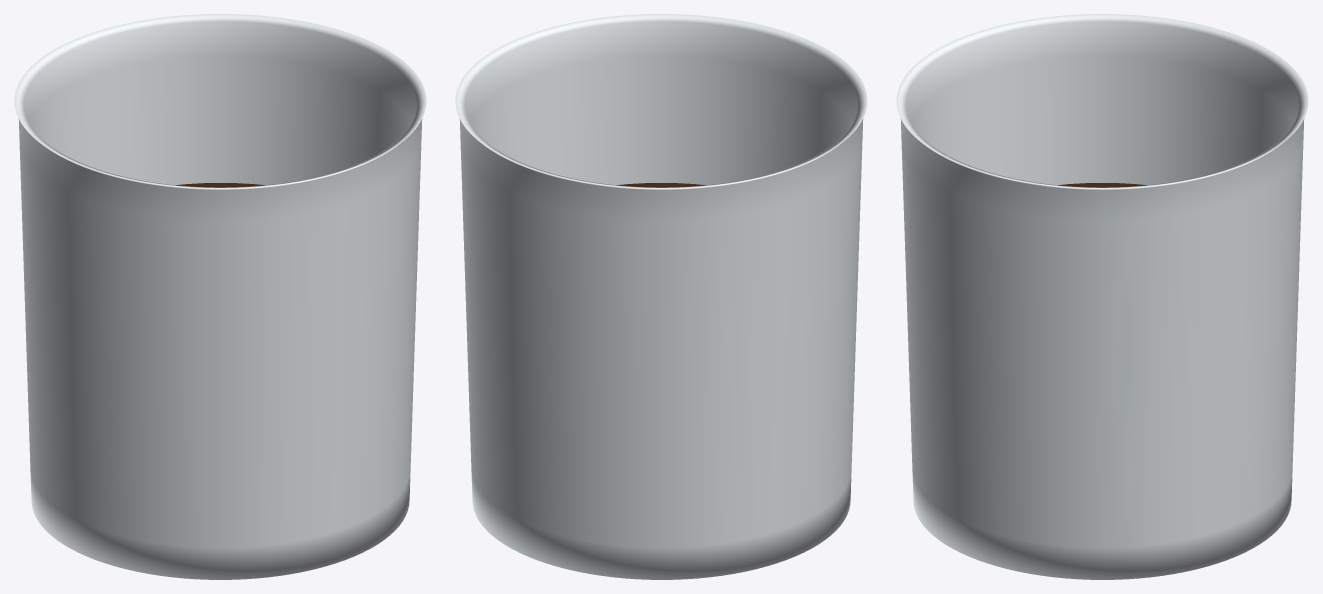
Rendered from iced-cortado.glb.
The picture shows the model from 3 angles, left to right: view 1: azimuth 30°, elevation 25°; view 2: azimuth 150°, elevation 25°; view 3: azimuth 270°, elevation 25°; orthographic projection.
Parts seen in each view (by area): view 1: clear; view 2: clear; view 3: clear.
Boxes of the visible parts, x1=… form: clear: x1=14, y1=14, x2=426, y2=579; clear: x1=455, y1=14, x2=867, y2=579; clear: x1=896, y1=14, x2=1308, y2=579.
Bounding box in the file's own units: 0.085 × 0.0908 × 0.085.
Materials: 3 (3 with a texture image).
